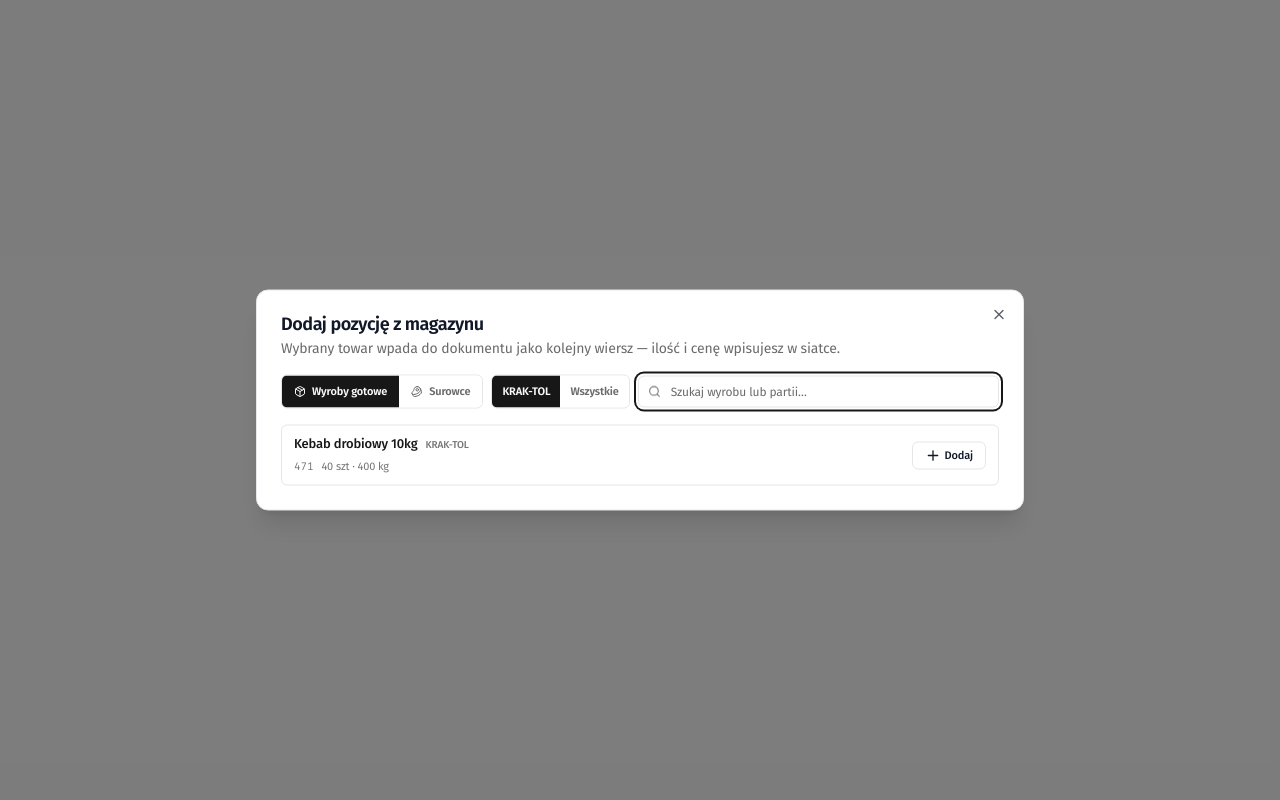
it: StockPickerDialog — wybór towaru na dokument › przełącznik „Wszystkie" wraca do pełnego magazynu
Step 1. Click the button with aria-label "Pokaż wszystkie wyroby" → x=595, y=392, box x1=560 y1=376 x2=629 y2=408
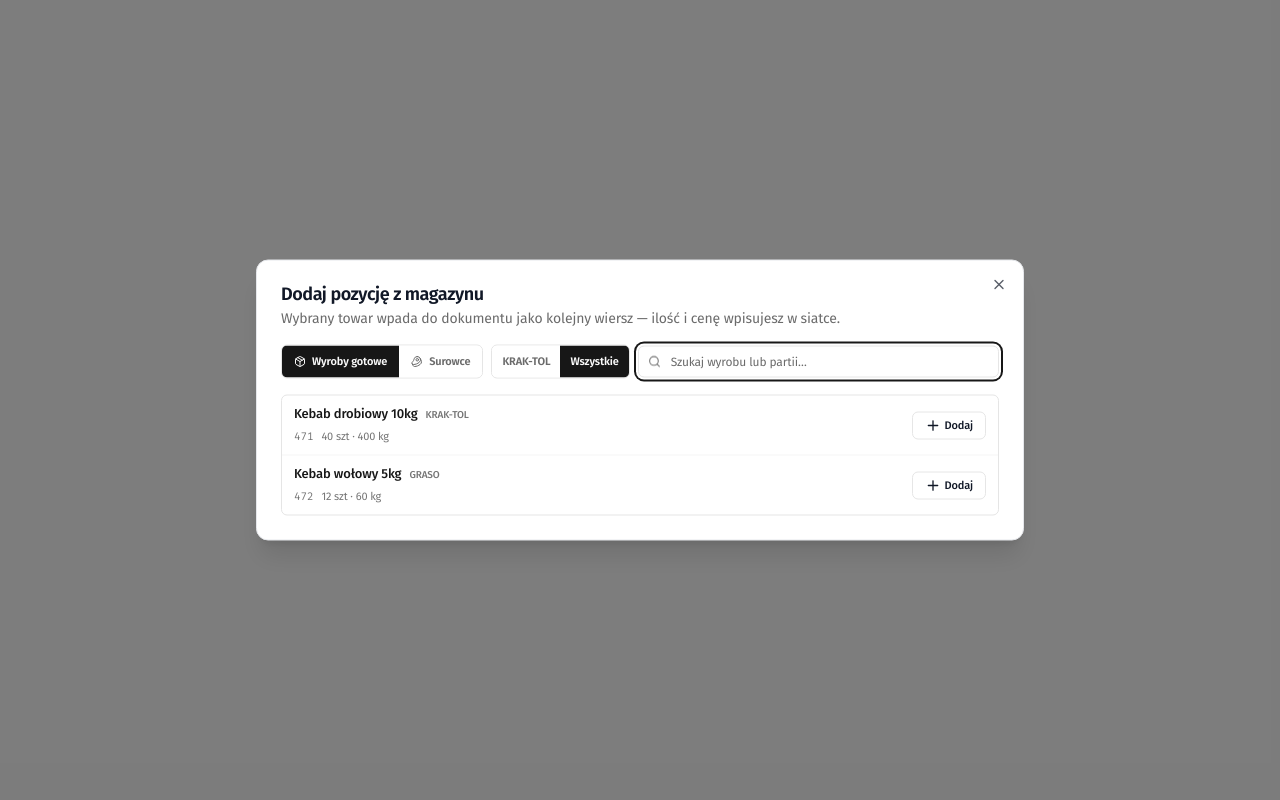
Expected: the button with aria-label "Dodaj g2" is shown, x1=912 y1=471 x2=986 y2=499
